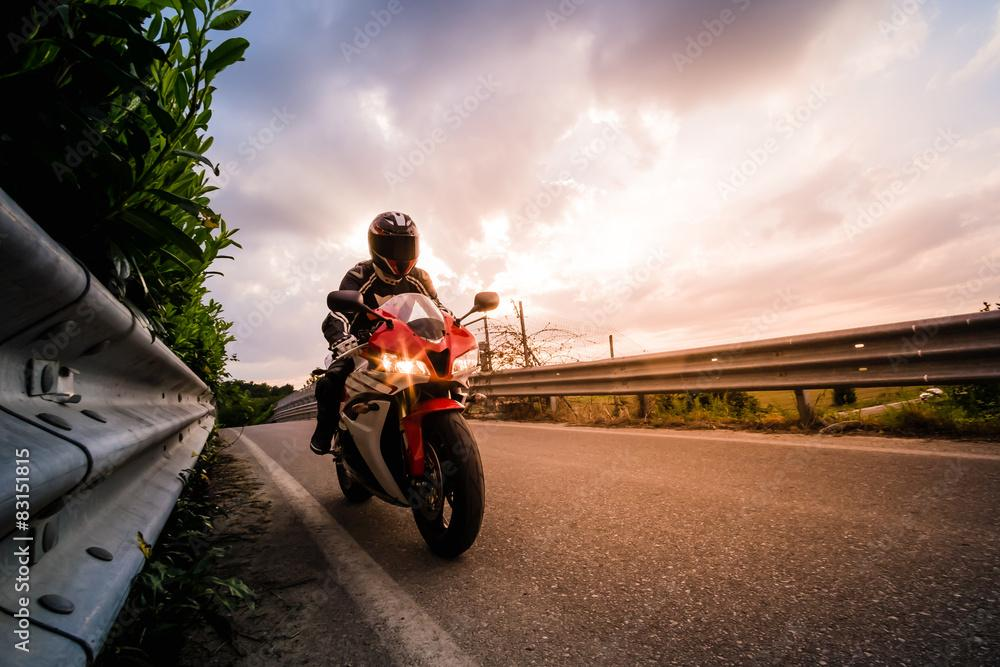helmet: (367, 210, 421, 280)
